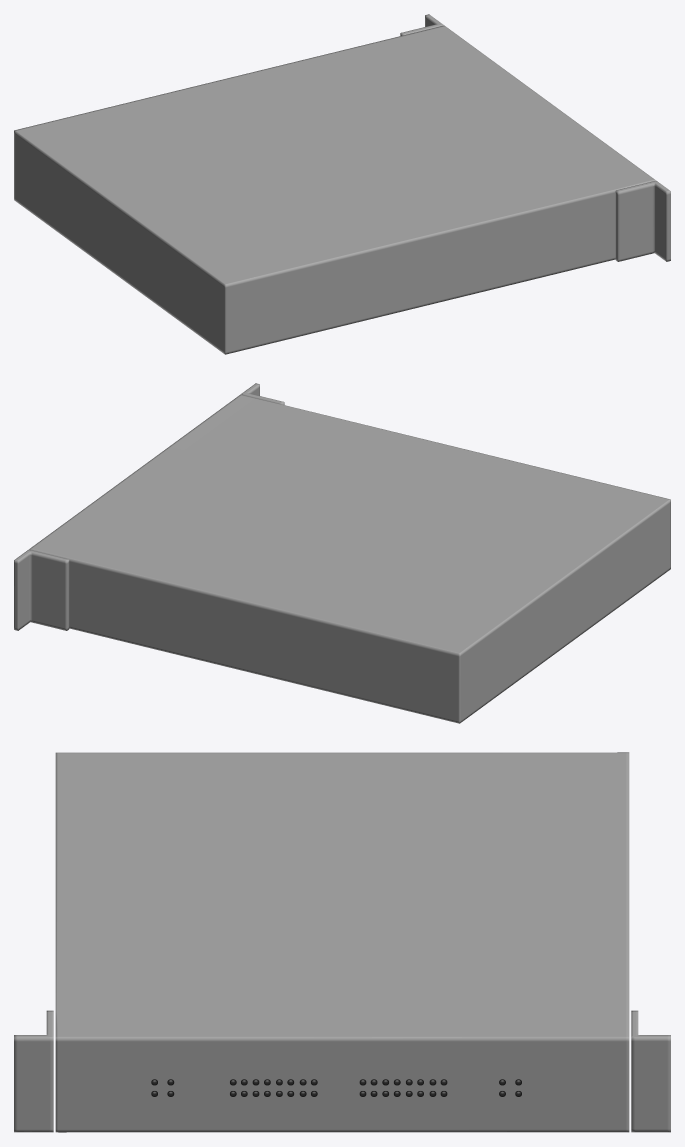
File: EMU.glb
3 views of the same model, one above another, from view 1: azimuth 30°, elevation 25°; view 2: azimuth 150°, elevation 25°; view 3: azimuth 270°, elevation 25° (orthographic). The views are drawn at different scales.
Parts seen in each view (by area): view 1: EMU; view 2: EMU; view 3: EMU.
Part boxes in pixels (<box>): EMU: <box>14,14,670,354</box>; EMU: <box>14,383,670,723</box>; EMU: <box>14,752,670,1132</box>.
Bounding box in the file's own units: 0.4083 × 0.0631 × 0.397.
2 materials, 1 textured.
